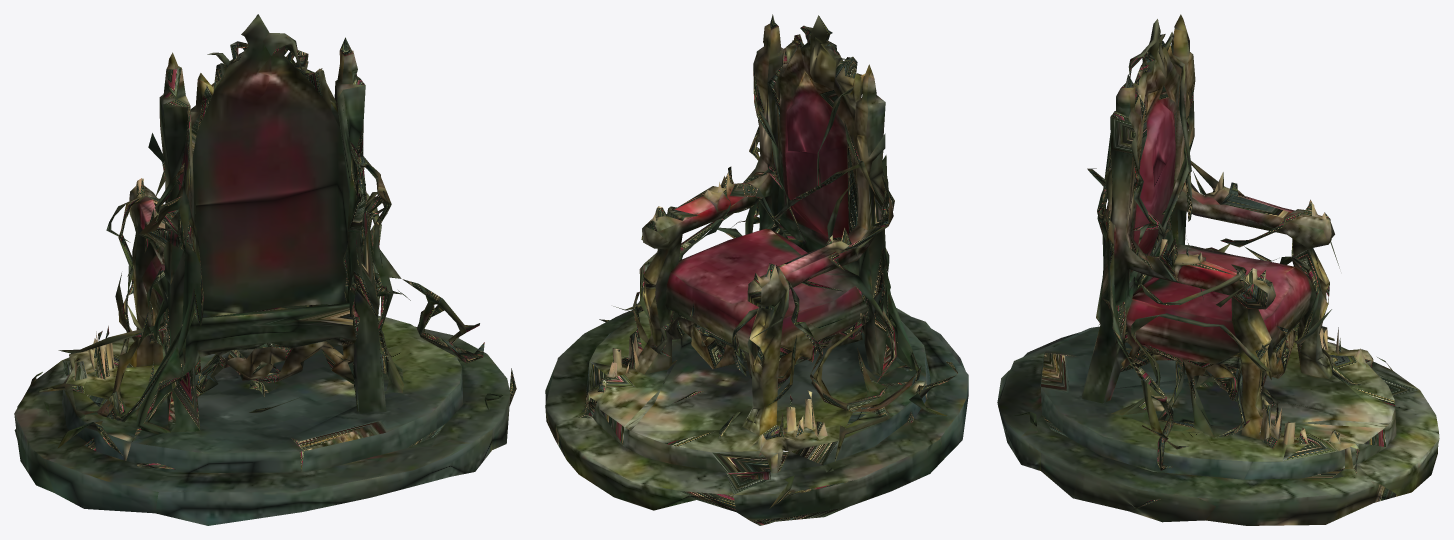
File: throne-lite.glb
3 renders of one model, left to right at view 1: azimuth 30°, elevation 25°; view 2: azimuth 150°, elevation 25°; view 3: azimuth 270°, elevation 25°, orthographic. The views are drawn at different scales.
Parts seen in each view (by area): view 1: geometry_0; view 2: geometry_0; view 3: geometry_0.
Boxes of the visible parts, x1,y1,x2,y2 form: geometry_0: [14, 14, 516, 525]; geometry_0: [545, 14, 968, 525]; geometry_0: [997, 14, 1439, 525].
Size of the model in its own units: 0.7279 by 0.7678 by 0.7248.
1 material, 1 textured.
